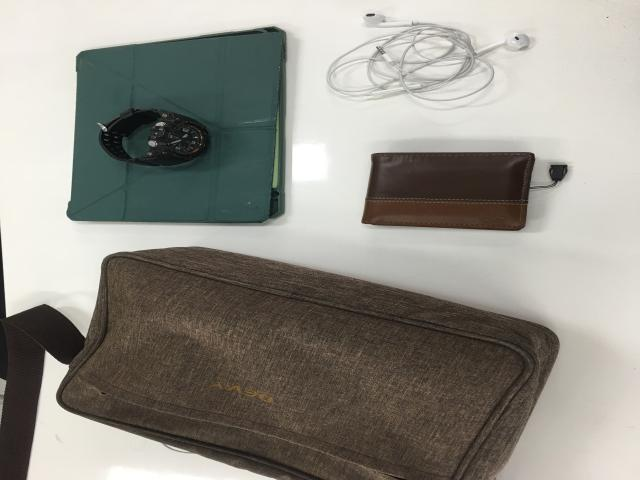Wallet: (361, 152, 536, 232)
Watch: (99, 110, 211, 168)
wire: (324, 13, 532, 106)
